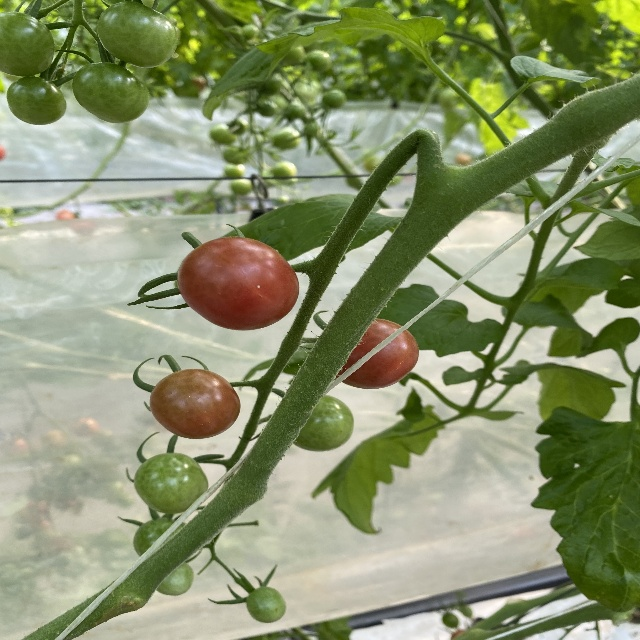l_fully_ripened: (176, 237, 300, 331), (334, 319, 419, 389)
l_green: (95, 2, 180, 67), (71, 62, 150, 123), (134, 452, 210, 515), (0, 11, 56, 77), (292, 395, 355, 452), (6, 76, 67, 126), (133, 518, 186, 561), (246, 586, 288, 623), (156, 562, 194, 596)
l_half_ripened: (148, 367, 241, 438)
